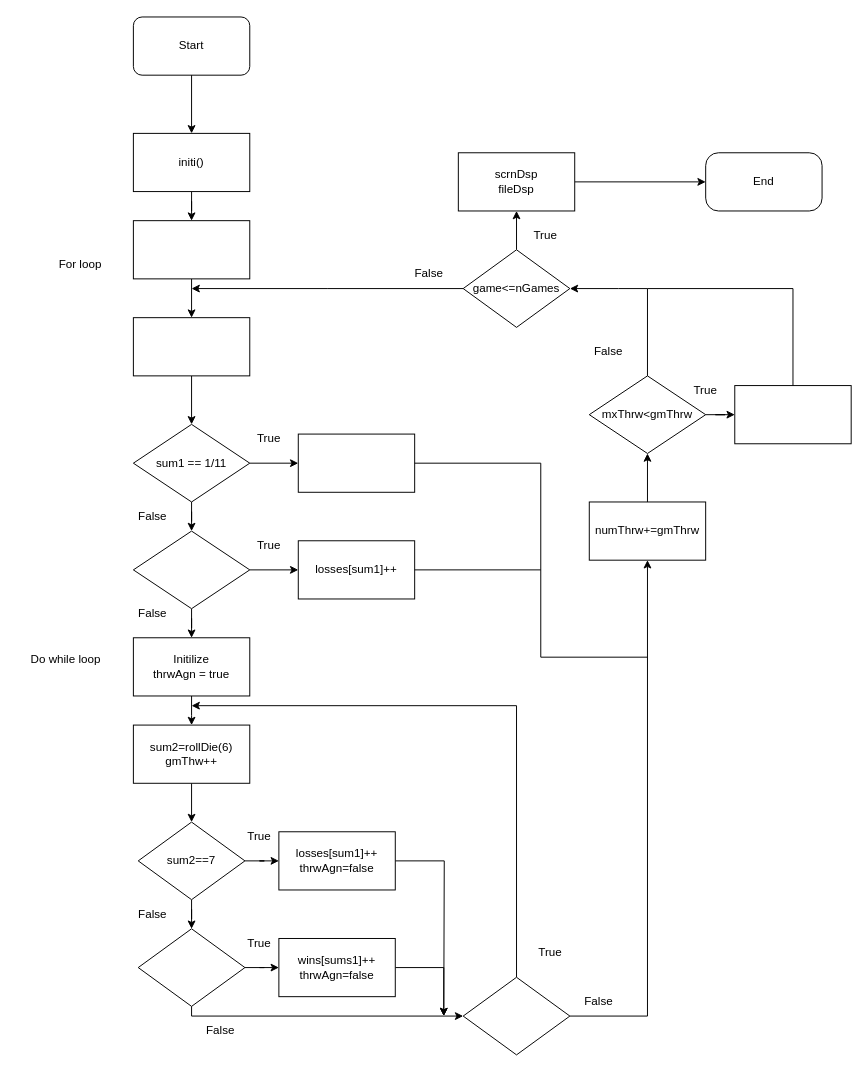
This 868x1072 diagram has some shape labels left out. The box of each missing label's shape, as (x1, y1, x2, y2) in pixels:
Declare and ini In for loop game=1: (132, 220, 250, 279)
gmThrw=1 sum1=rollDie(6): (132, 317, 250, 376)
mxThrw=gmThrw: (734, 385, 851, 444)
sum1 == 2/3/12: (132, 530, 250, 609)
sum1 == sum2: (137, 928, 245, 1006)
thrwAgn == True: (462, 976, 570, 1055)
wins[sum1]++: (297, 433, 415, 492)
